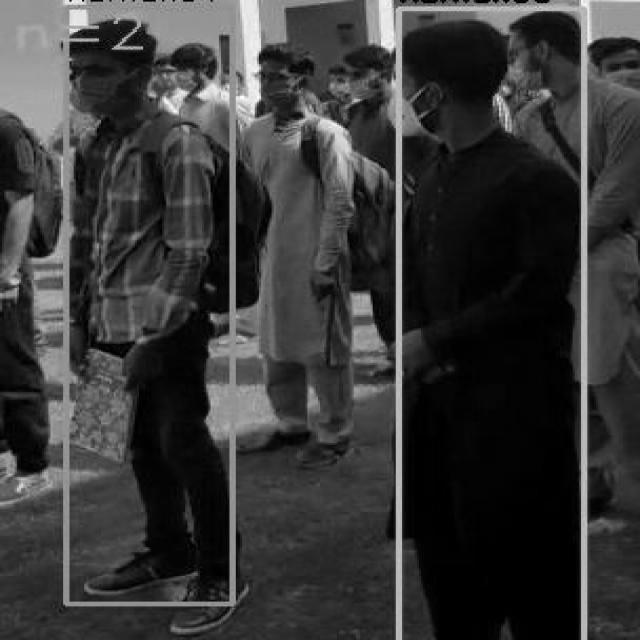person: (396, 6, 584, 640), (63, 4, 232, 604)
